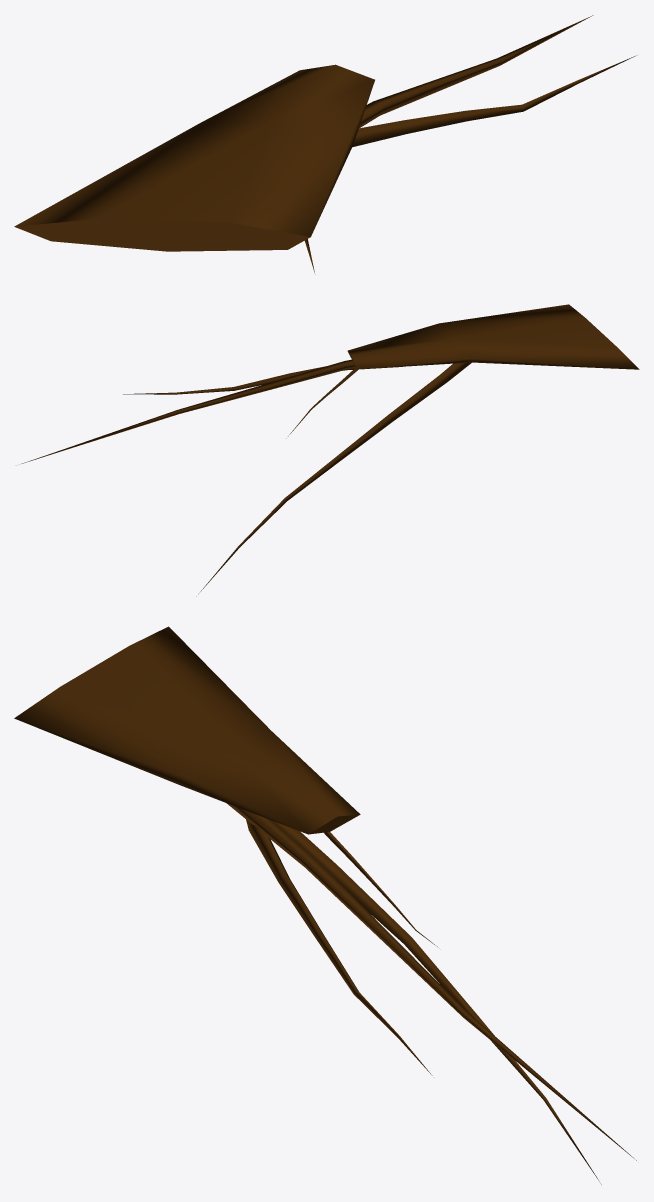
File: Branch003.FBX
3 views of the same model, one above another, from view 1: azimuth 30°, elevation 25°; view 2: azimuth 150°, elevation 25°; view 3: azimuth 270°, elevation 25° (orthographic). The views are drawn at different scales.
Parts seen in each view (by area): view 1: Branch002; view 2: Branch002; view 3: Branch002.
Boxes of the visible parts, x1,y1,x2,y2 form: Branch002: (14, 15, 636, 274); Branch002: (21, 304, 639, 596); Branch002: (14, 626, 636, 1184).
Size of the model in its own units: 187 by 77.78 by 133.
